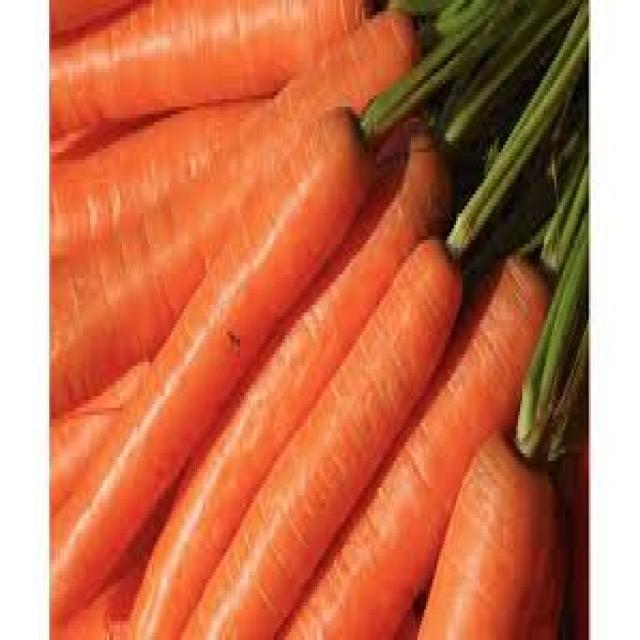organic waste: (107, 103, 454, 636), (49, 103, 377, 636), (50, 0, 418, 408), (178, 233, 458, 636), (274, 244, 550, 636), (439, 0, 584, 255), (49, 95, 272, 255), (49, 0, 377, 99), (411, 423, 548, 636), (359, 0, 556, 145), (434, 0, 584, 152), (456, 111, 584, 259), (512, 194, 584, 457), (47, 350, 152, 526), (47, 522, 163, 636), (524, 126, 586, 278), (518, 465, 565, 636), (558, 427, 586, 636), (49, 0, 135, 42), (415, 0, 486, 50), (394, 587, 426, 636), (388, 0, 450, 15)
